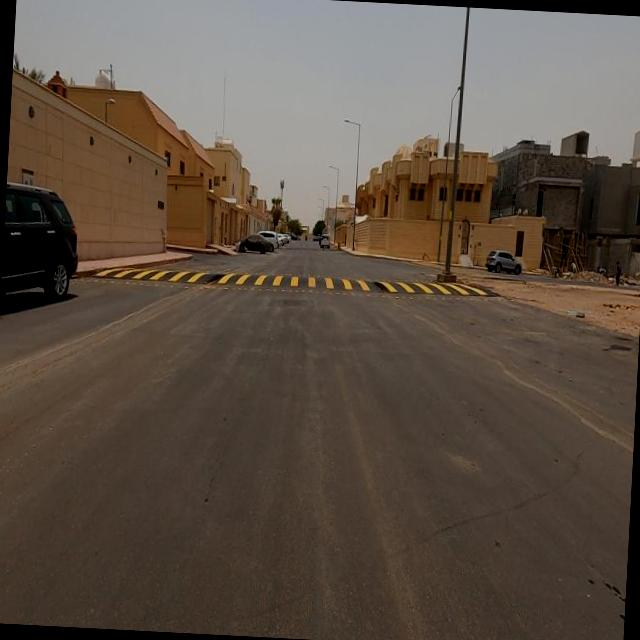debris: (514, 214, 606, 311)
